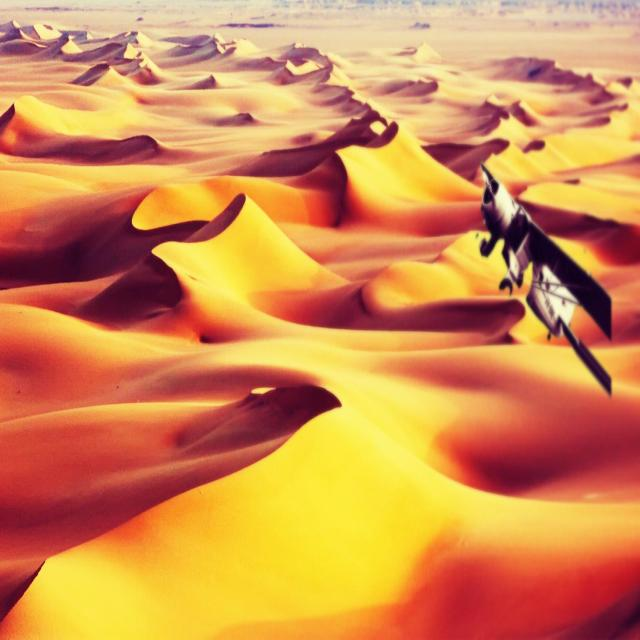airplane: (478, 159, 612, 396)
